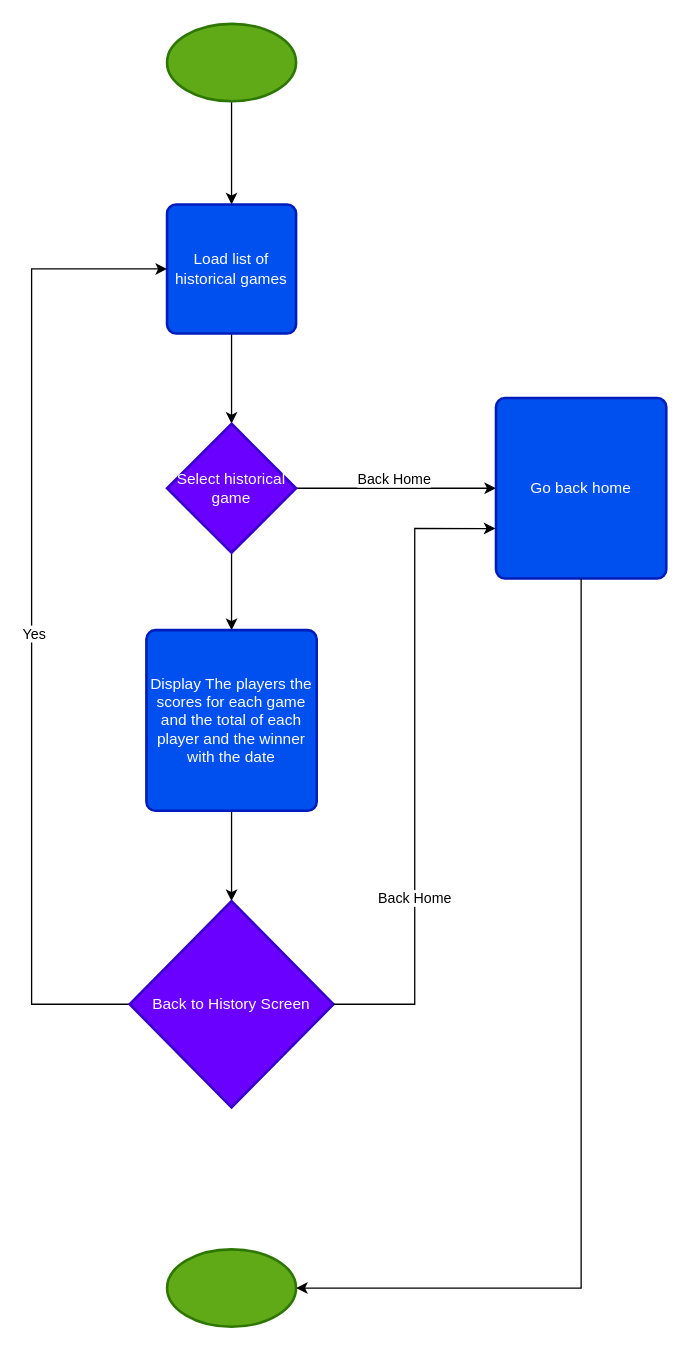
Some shapes in this 690 by 1349 pixel diagram are drawn without their labels. Each missing label, with the centre of its shape:
End of History: the point at 231,1287
Start History Menu: the point at 231,62
